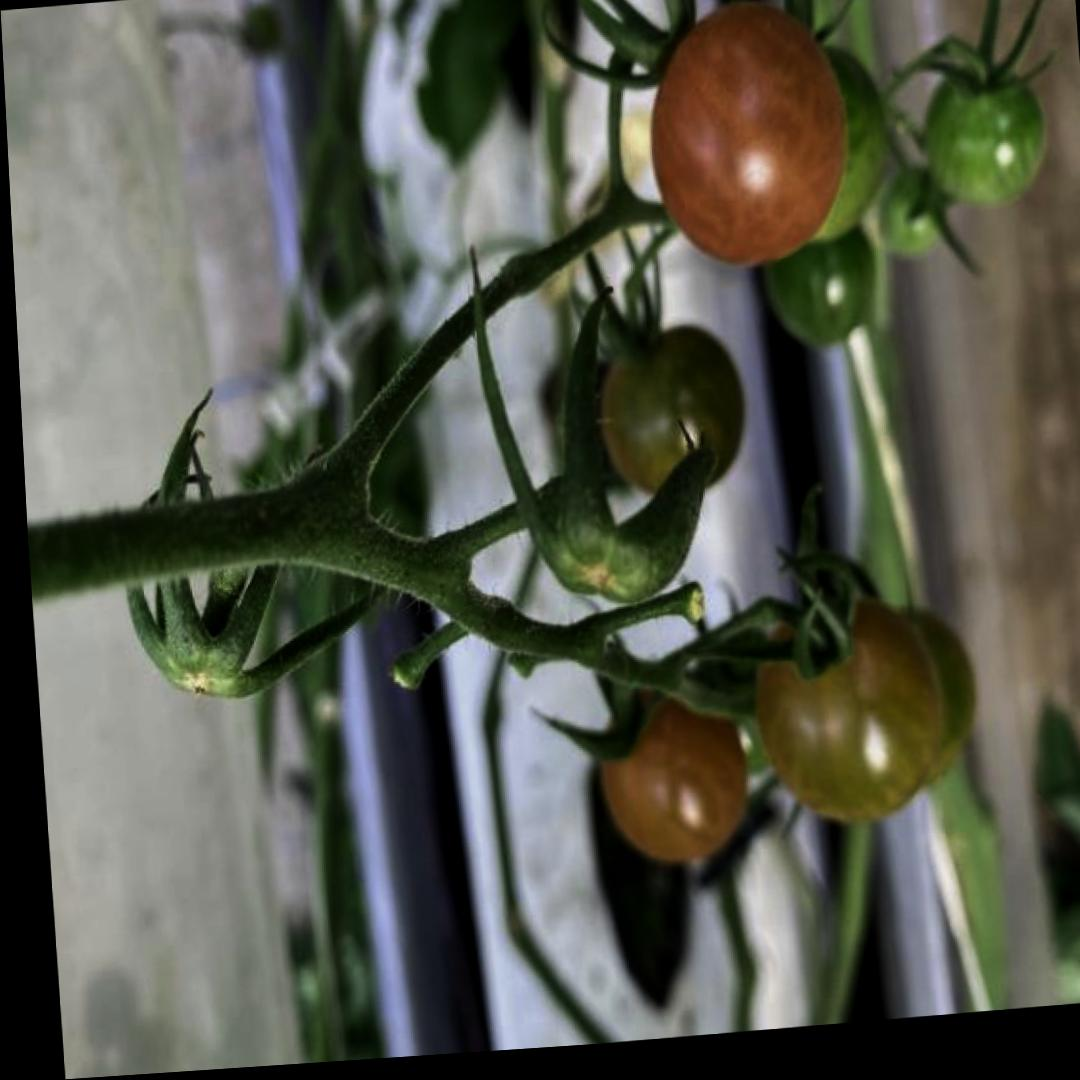matang: (638, 0, 860, 278)
setengah_matang: (745, 585, 948, 833)
